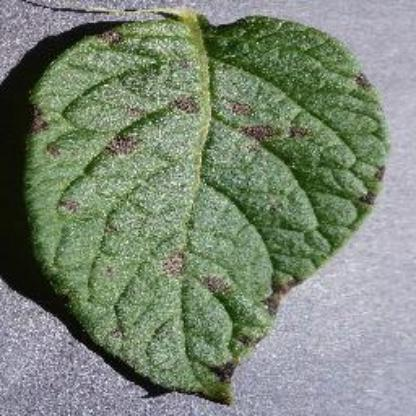Early-Blight: (19, 8, 398, 406)
